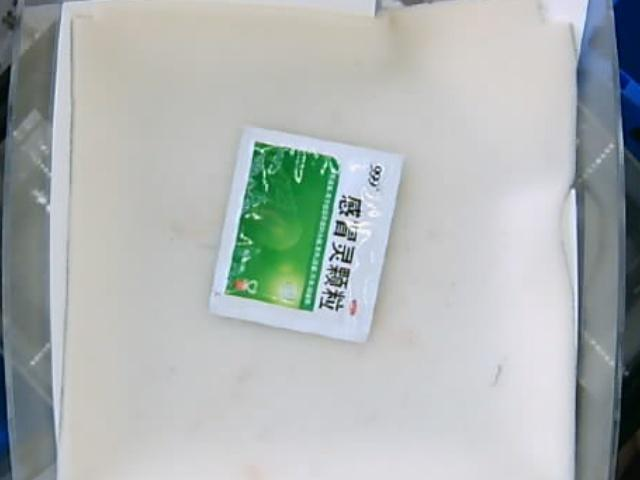Medicine: (214, 126, 407, 342)
